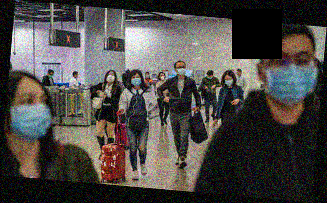with_mask: (264, 49, 318, 107), (9, 90, 51, 141), (131, 74, 142, 89), (176, 65, 186, 77), (106, 72, 116, 83), (224, 77, 234, 87), (159, 74, 166, 81), (48, 72, 54, 79), (206, 75, 214, 80), (75, 72, 79, 80), (145, 74, 150, 79)
without_mask: (236, 71, 241, 78)
